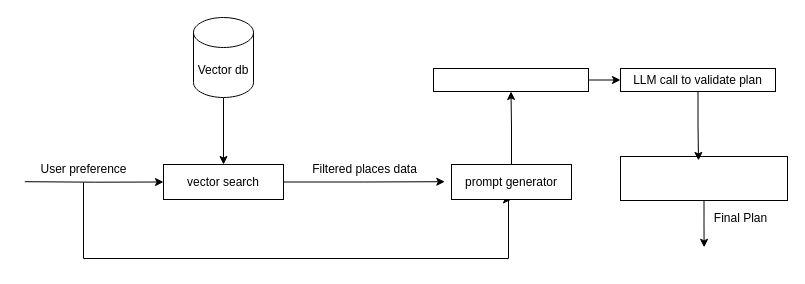
This 805x284 diagram has some shape labels left out. Each missing label, with the centre of its shape:
Add Hotels, Bus, Food etc. Recommendations: point 704,178
LLM call to generate plan: point 510,80
